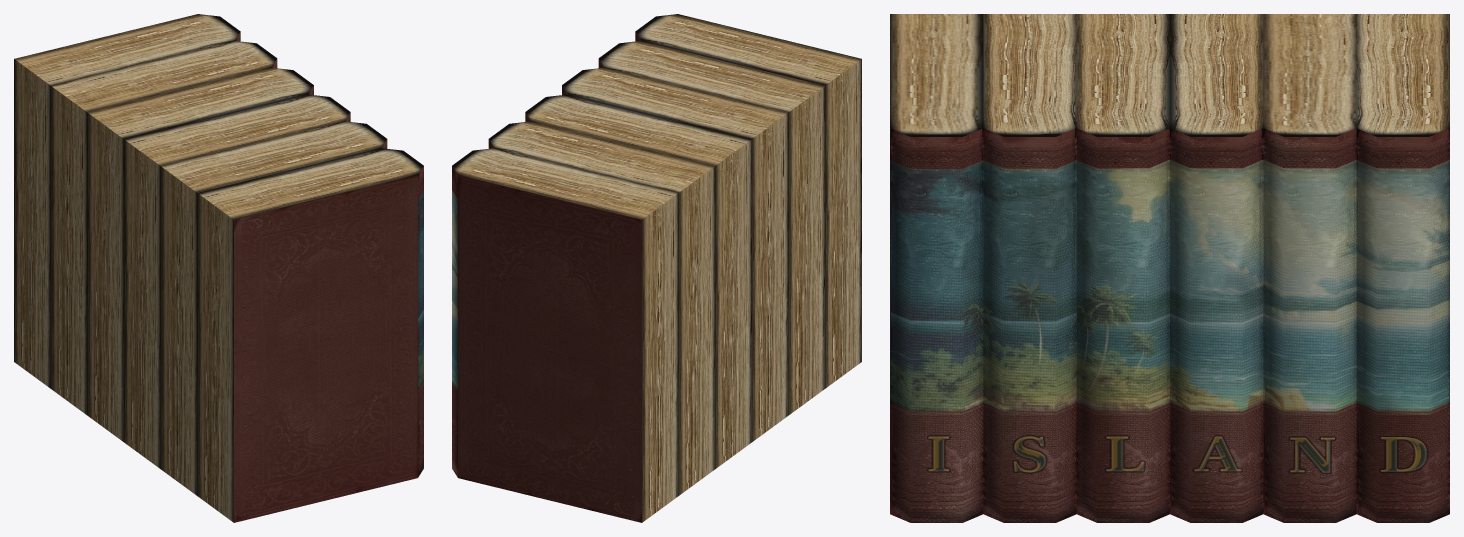
The model's file is BookSet.fbx.
3 views of the same model, side by side, from view 1: azimuth 30°, elevation 25°; view 2: azimuth 150°, elevation 25°; view 3: azimuth 270°, elevation 25° (orthographic). The views are drawn at different scales.
Visible parts, largest first — view 1: Book1, Book2, Book5, Book3, Book6, Book4; view 2: Book6, Book5, Book2, Book4, Book1, Book3; view 3: Book1, Book2, Book3, Book4, Book5, Book6.
Part boxes in pixels (box(x1,y1,x2,y2)): Book1: box(197, 148, 423, 522); Book2: box(160, 121, 387, 495); Book5: box(50, 41, 277, 414); Book3: box(124, 94, 350, 468); Book6: box(14, 14, 240, 388); Book4: box(87, 67, 313, 441); Book6: box(452, 148, 678, 522); Book5: box(488, 121, 715, 495); Book2: box(598, 41, 825, 414); Book4: box(525, 94, 751, 468); Book1: box(635, 14, 861, 388); Book3: box(562, 67, 788, 441); Book1: box(890, 14, 983, 522); Book2: box(983, 14, 1076, 522); Book3: box(1076, 14, 1169, 522); Book4: box(1170, 14, 1263, 522); Book5: box(1263, 14, 1356, 522); Book6: box(1356, 14, 1449, 522).
Size of the model in its own units: 624 by 913 by 1200.
1 material, 1 textured.
